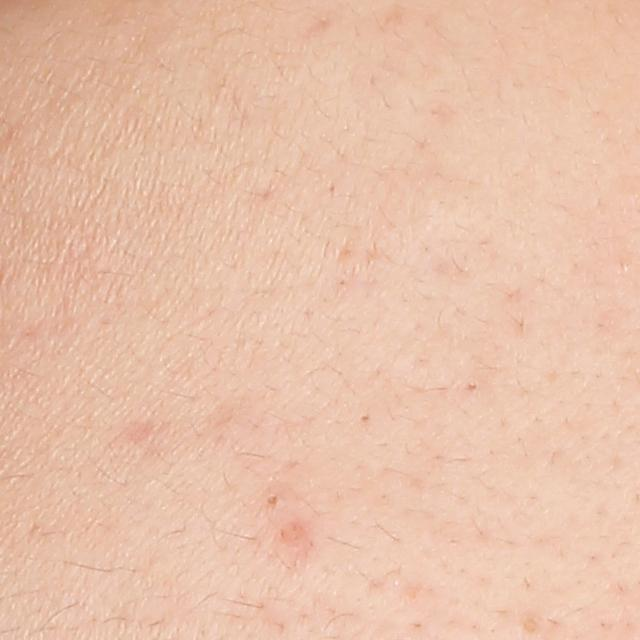comedo: (264, 491, 282, 510), (461, 380, 479, 392), (357, 412, 374, 424)
